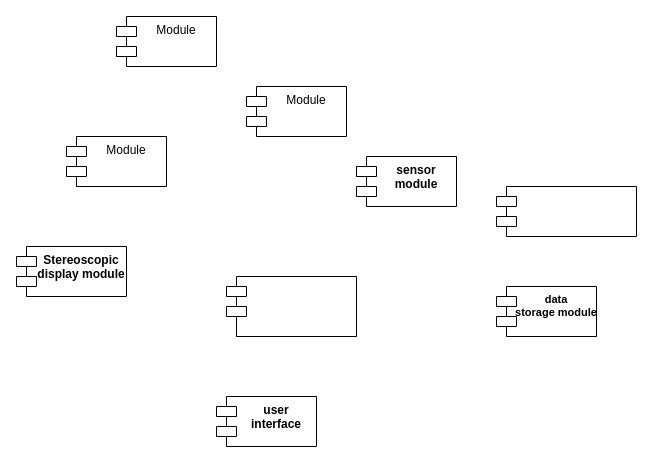
The diagram is 653 pixels wide and 463 high, and some of its shapes have lost their labels. Here are the shapes that lost their labels. From the top down, the centre of each, then its label:
(x=566, y=211): Dynamic environment modeling module
(x=291, y=306): Real-time 3D graphics generation module
